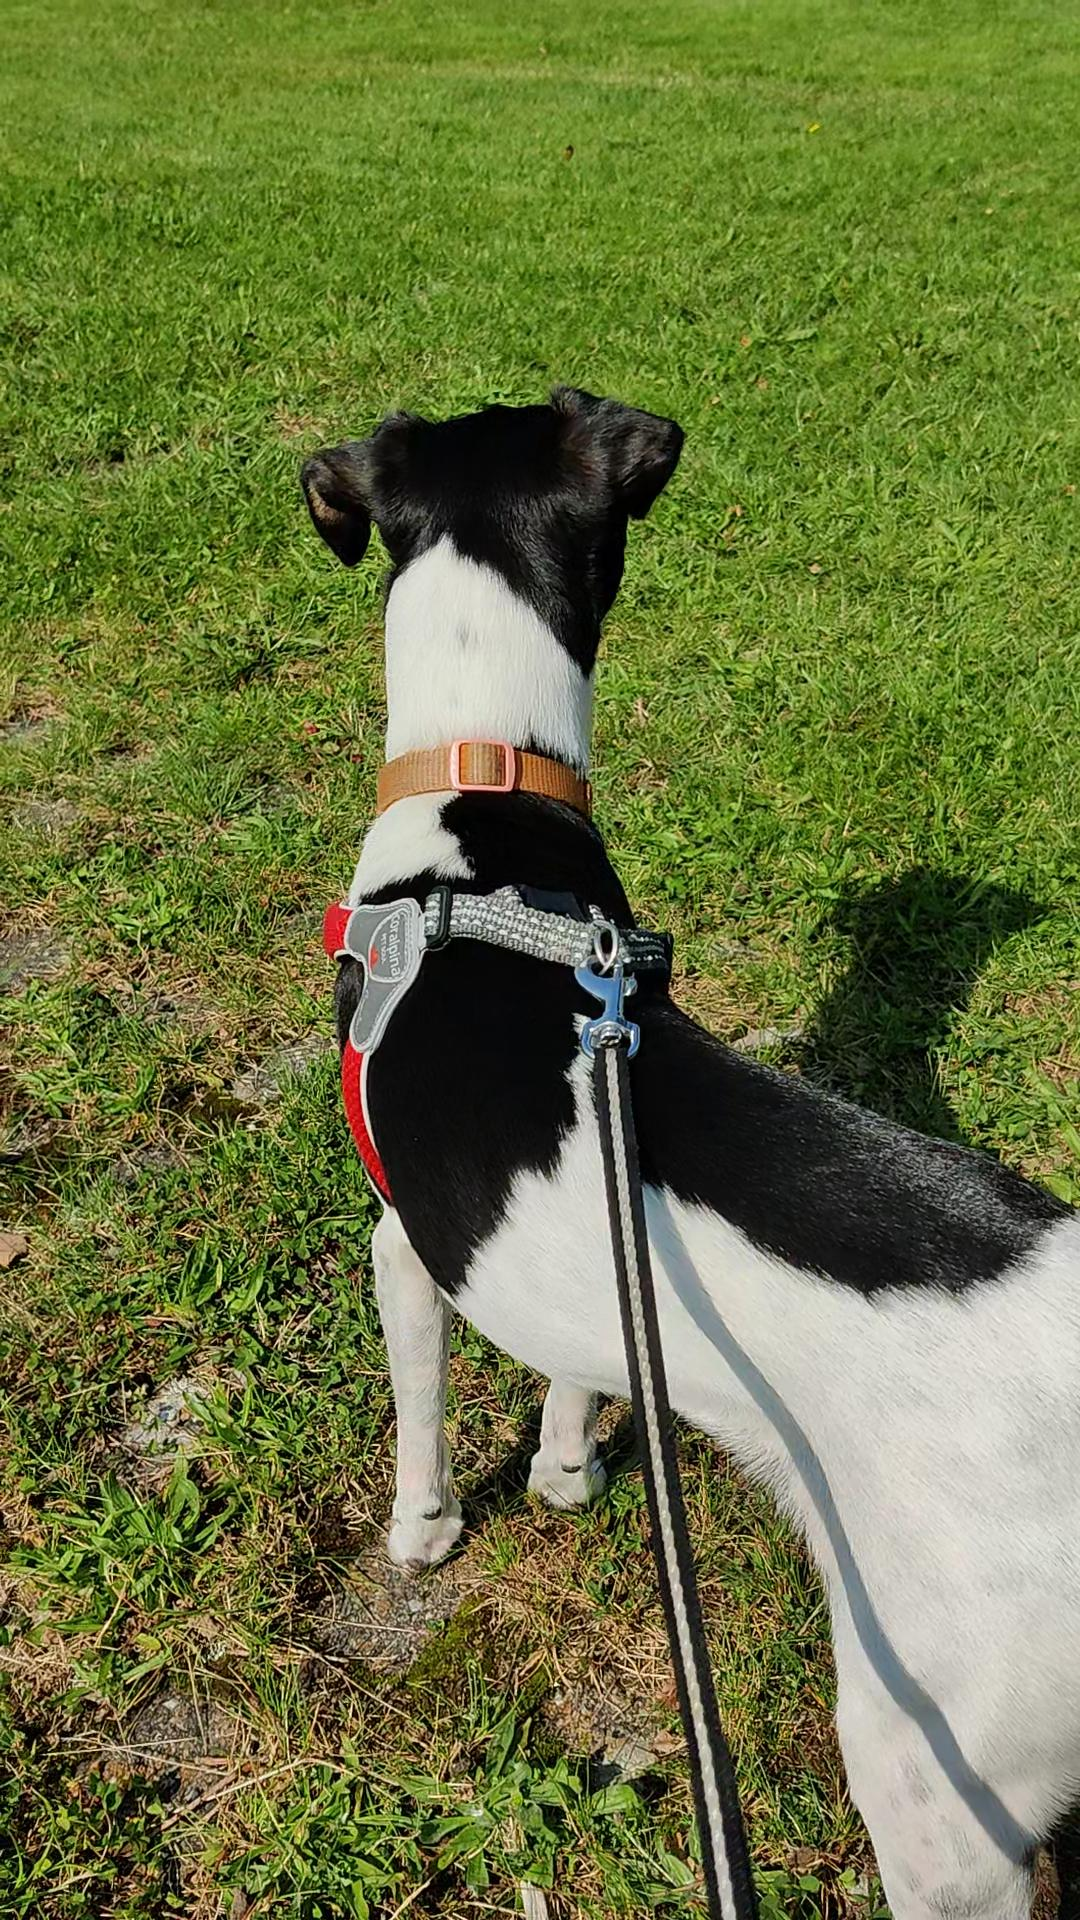Dog: (281, 369, 1079, 1919)
